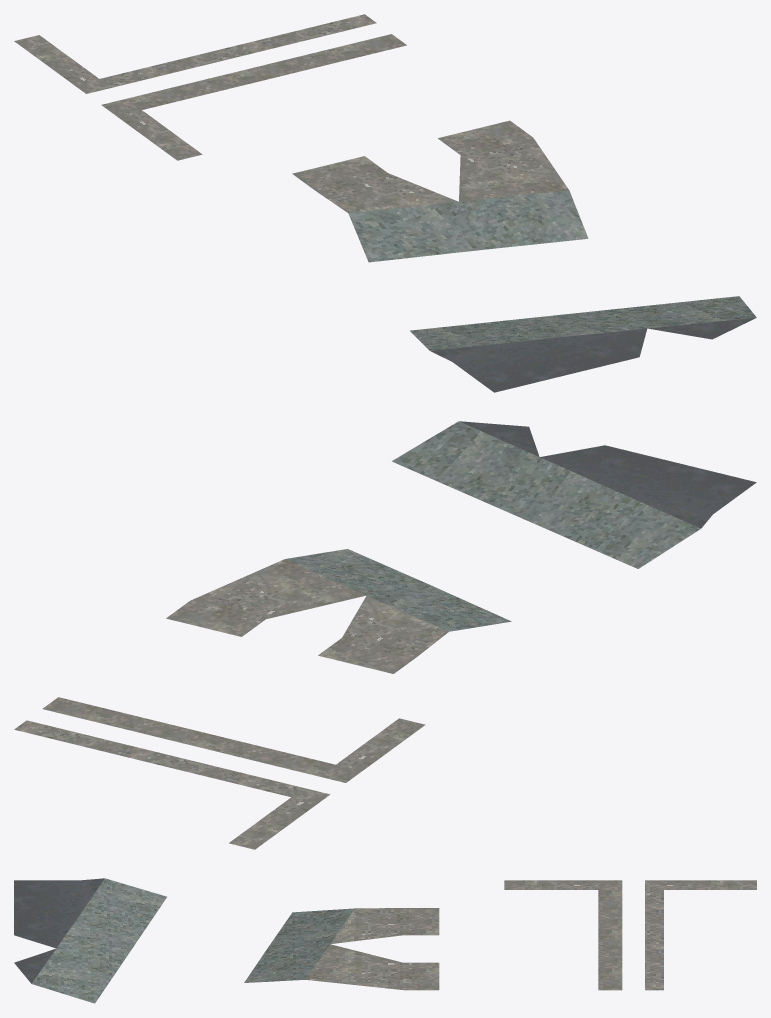
Rendered from lodaswedge07.obj.
3 renders of one model, top to bottom at view 1: azimuth 30°, elevation 25°; view 2: azimuth 150°, elevation 25°; view 3: azimuth 270°, elevation 25°, orthographic. The views are drawn at different scales.
Visible parts, largest first — view 1: lodasWedge07; view 2: lodasWedge07; view 3: lodasWedge07.
Part boxes in pixels (bbox=[...]): lodasWedge07: bbox=[14, 14, 756, 392]; lodasWedge07: bbox=[14, 421, 756, 849]; lodasWedge07: bbox=[14, 878, 756, 1003].
Bounding box in the file's own units: 83.37 × 3.91 × 229.
Materials: 3 (3 with a texture image).
